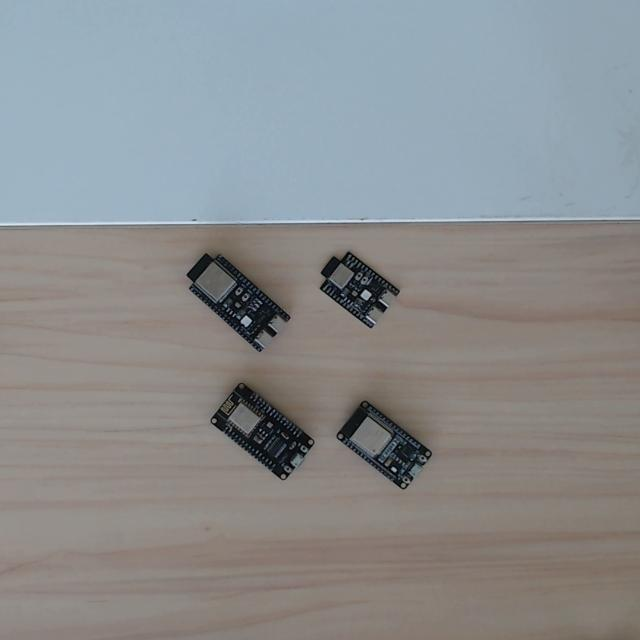ESP32-DevKit: (333, 399, 437, 495)
ESP32C3-DevKit: (309, 244, 404, 334)
ESP32S3-Devkit: (177, 245, 293, 356)
ESP8266-NodeMCU: (206, 379, 320, 487)
